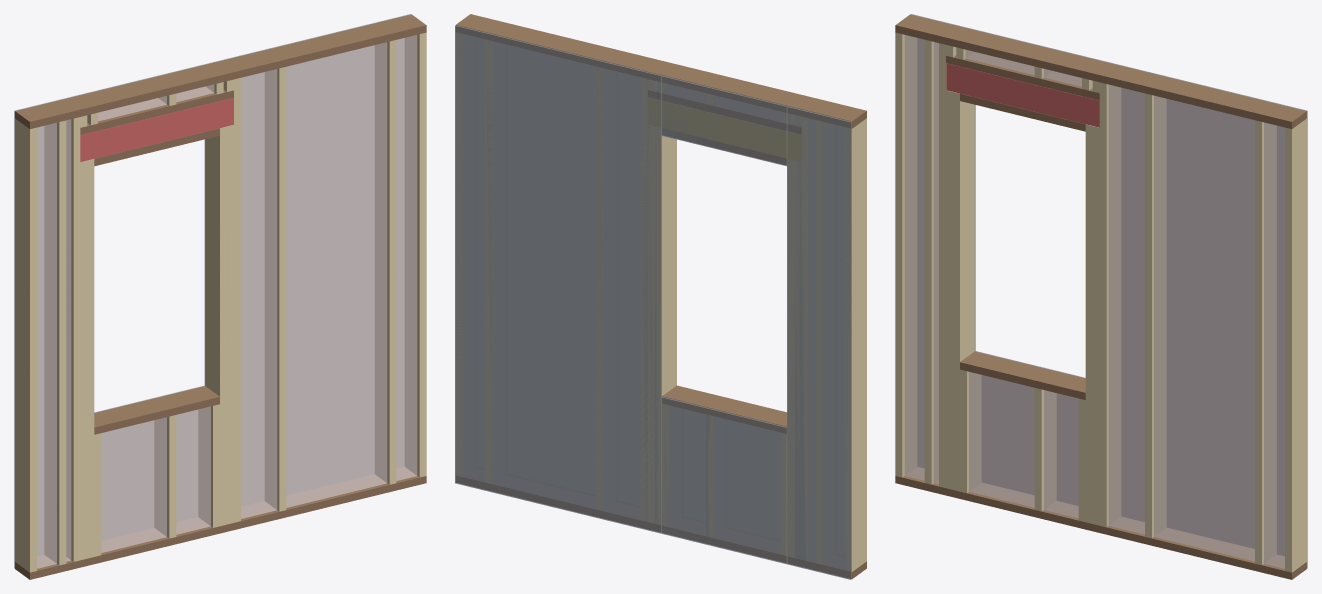
3 renders of one model, left to right at view 1: azimuth 30°, elevation 25°; view 2: azimuth 150°, elevation 25°; view 3: azimuth 330°, elevation 25°, orthographic.
Parts seen in each view (by area): view 1: EX16 GF; view 2: EX16 GF; view 3: EX16 GF.
Part boxes in pixels (bbox=[...]): EX16 GF: bbox=[14, 14, 426, 579]; EX16 GF: bbox=[455, 14, 866, 579]; EX16 GF: bbox=[895, 14, 1307, 579].
Size of the model in its own units: 2.16 by 2.39 by 0.149.
